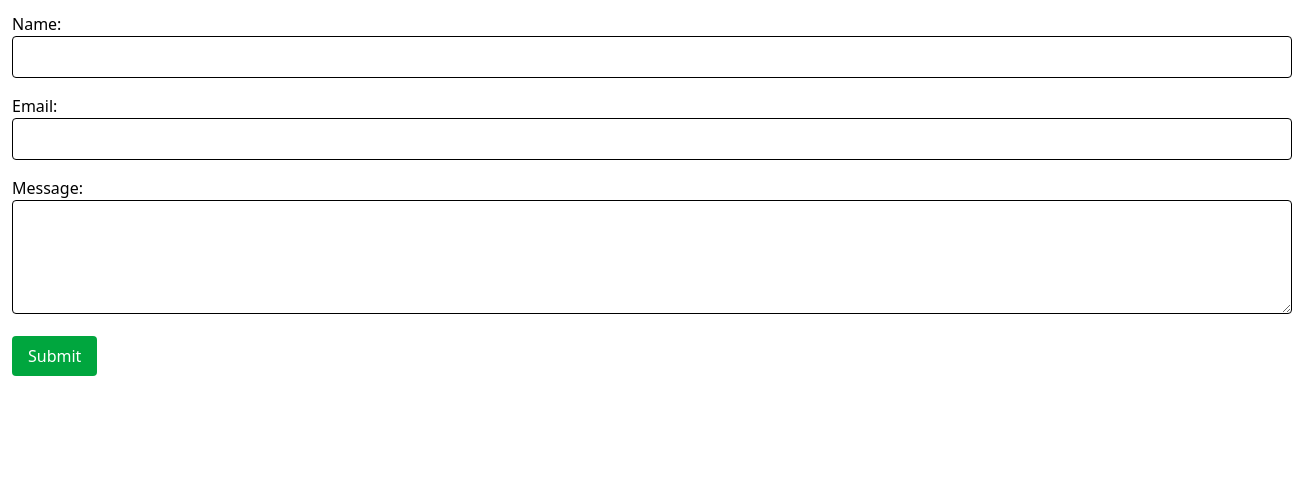
Test: Contact Form › should display validation errors when fields are empty
This screenshot has width=1304, height=489.
Click the button with test id "submit-button" at [55, 356], box [12,336,97,376]
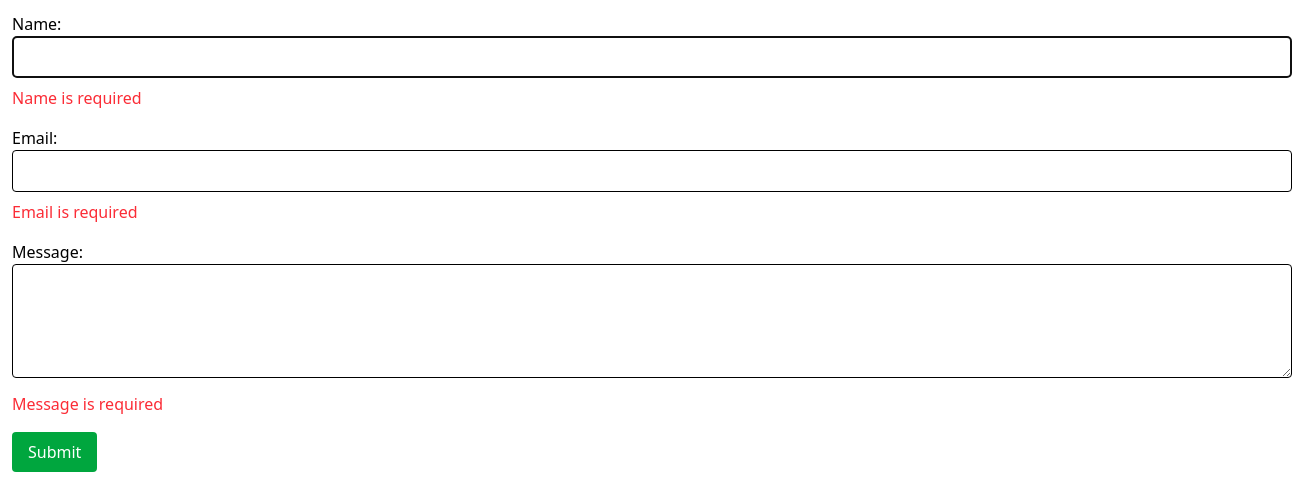
Check: the text "Name is required" is shown, box [12,87,142,109]
Check: the text "Email is required" is shown, box [12,201,138,223]
Check: the text "Message is required" is shown, box [12,393,163,415]
